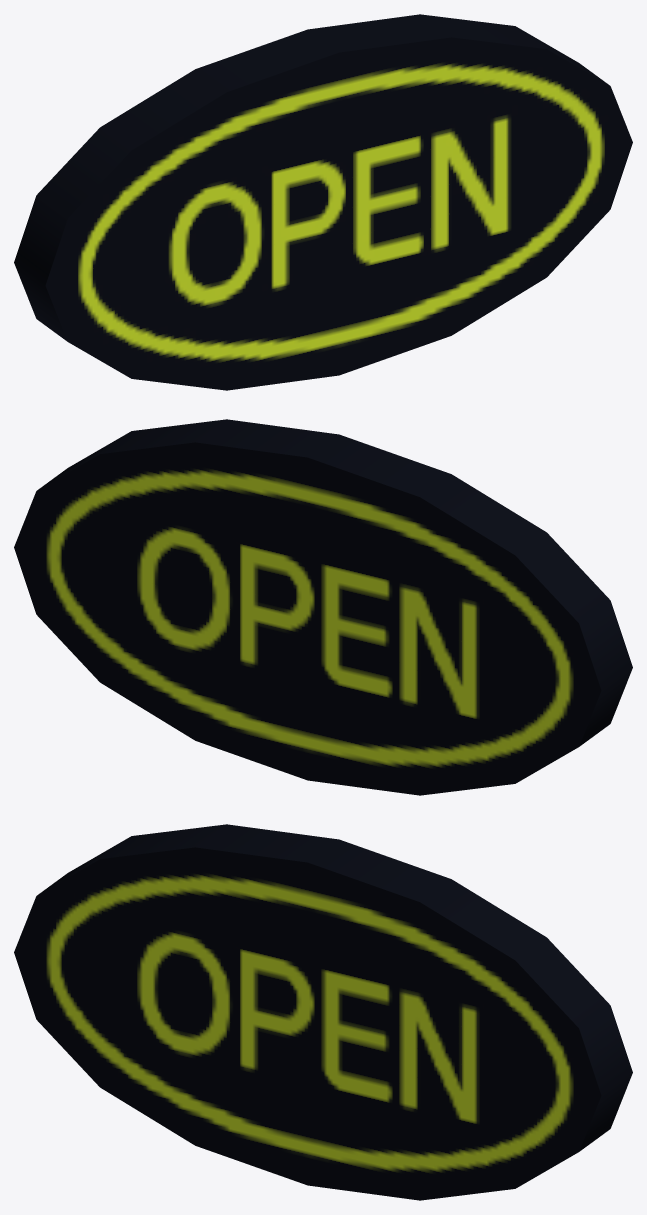
File: fbx_neon_open.fbx
3 renders of one model, top to bottom at view 1: azimuth 30°, elevation 25°; view 2: azimuth 150°, elevation 25°; view 3: azimuth 330°, elevation 25°, orthographic.
Parts seen in each view (by area): view 1: fbx_neon_open; view 2: fbx_neon_open; view 3: fbx_neon_open.
Part boxes in pixels (left/top/right/bottom): fbx_neon_open: left=14, top=14, right=632, bottom=390; fbx_neon_open: left=14, top=419, right=632, bottom=795; fbx_neon_open: left=14, top=824, right=632, bottom=1200.
Bounding box in the file's own units: 1.55 × 0.8158 × 0.1443.
Materials: 1 (1 with a texture image).
